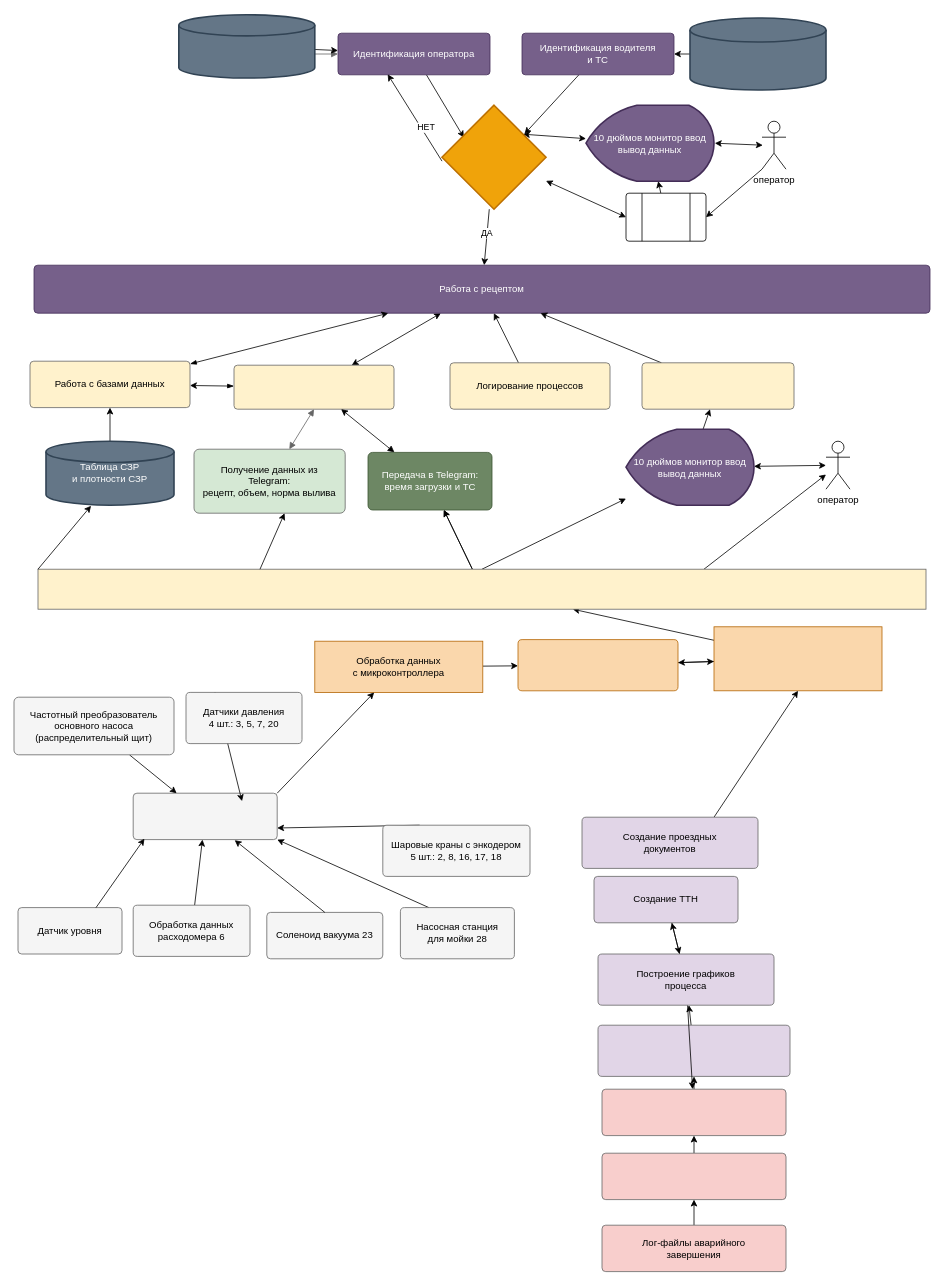
The diagram is 944 pixels wide and 1286 high, and some of its shapes have lost their labels. The box of each missing label's shape, as (x1, y1, x2, y2) in pixels:
Arduino Nano: (132, 792, 277, 840)
RFID: (625, 192, 706, 241)
Ввод / вывод данных: (641, 362, 794, 409)
Данные об авто и водителях, допущенных к перевозке: (689, 17, 826, 90)
Лог-файлы предыдущих сессий: (601, 1088, 786, 1136)
Лог-файлы процесса приготовления: (601, 1152, 786, 1200)
Обработка данных тензометрических весов 27: (517, 639, 678, 691)
обработка допуска: (441, 104, 546, 210)
Построение процесса приготовления рецепта и контроль выполнения: (713, 626, 882, 691)
Работа с Telegram-каналом: (233, 364, 394, 409)
Разрешенные доступы и уровни: (178, 14, 315, 78)
Создание отчетов о приготовлениях рецептов: (597, 1024, 790, 1076)
